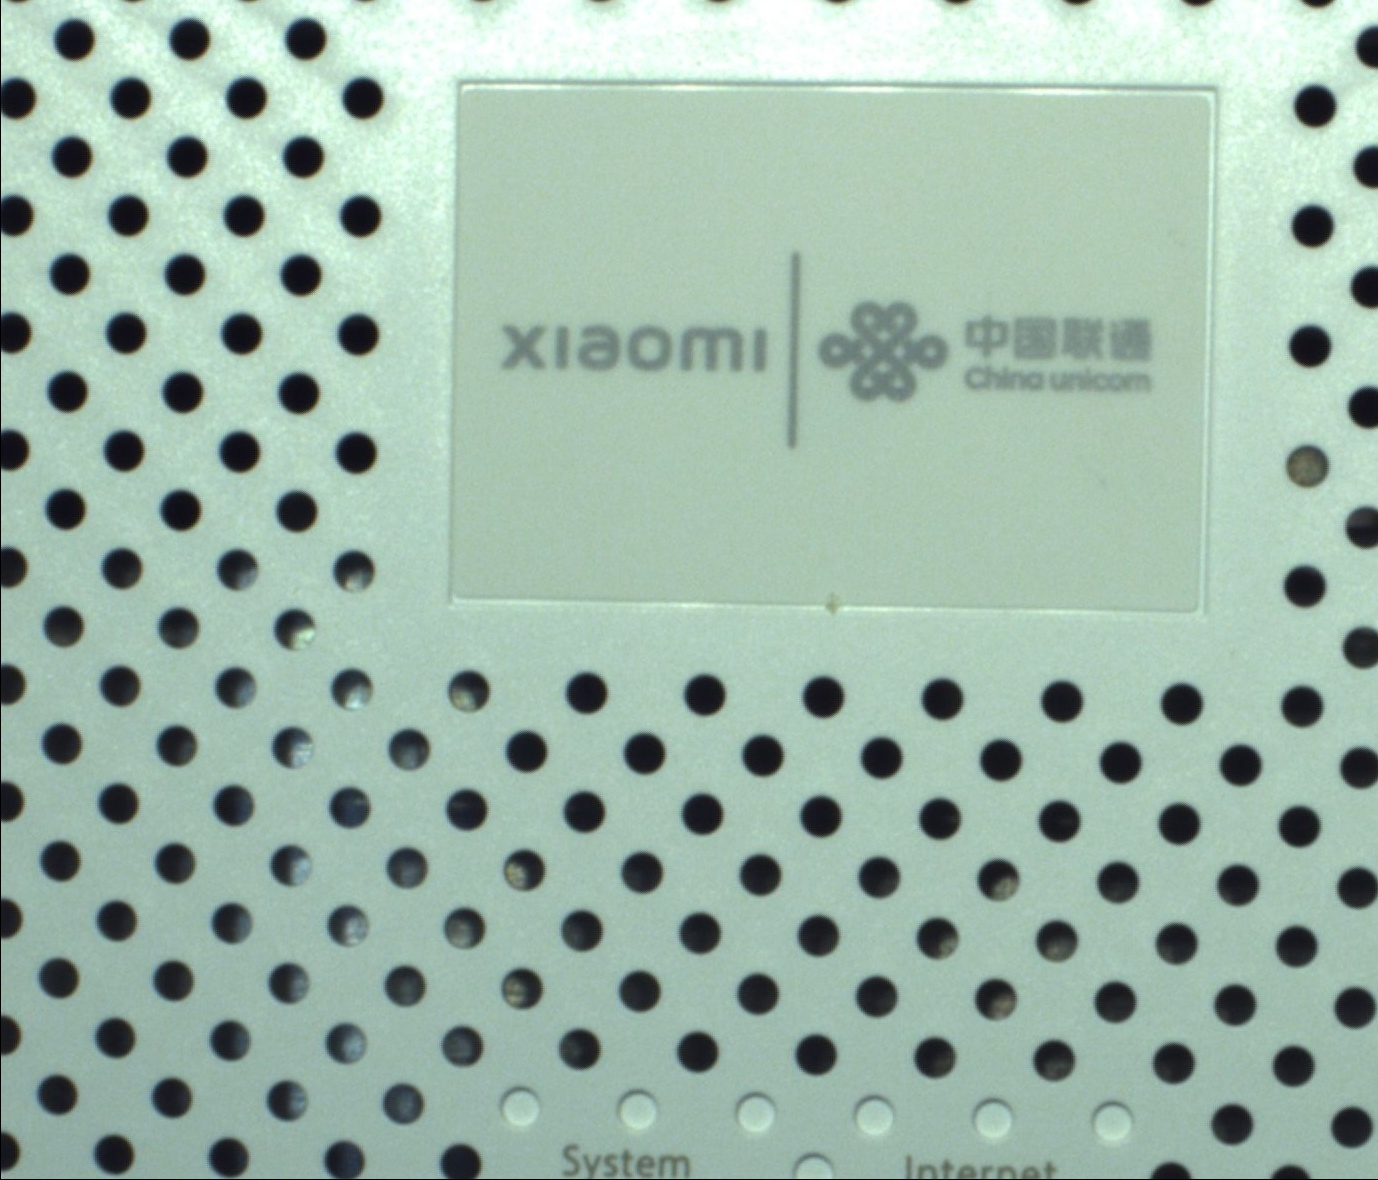MAC_NewUnicom: (498, 242, 1185, 451)
